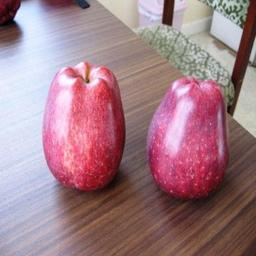apple: (42, 62, 126, 193), (147, 76, 228, 201)
